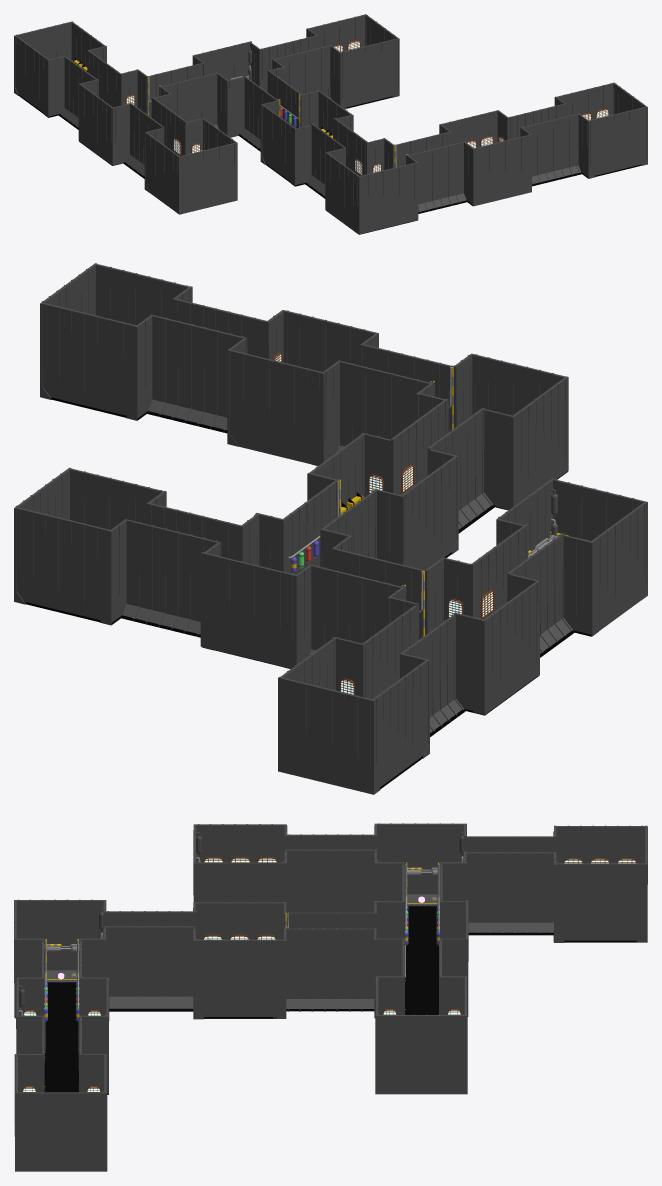
The model's file is TestRoom.fbx.
3 views of the same model, one above another, from view 1: azimuth 30°, elevation 25°; view 2: azimuth 150°, elevation 25°; view 3: azimuth 270°, elevation 25° (orthographic). The views are drawn at different scales.
Parts seen in each view (by area): view 1: Wall2.037, Wall2.033, Wall1.030, Wall1.034, Wall1.029, СТЕНИЩЕ 2.045, WallWithCapsules.015, Wall2.036, Wall2.034, WallWithCapsules.017, СТЕНИЩЕ 2.047, Wall3.032 (+40 smaller); view 2: Wall1.036, Wall2.035, Wall3.029, Wall3.028, Wall3.031, СТЕНИЩЕ 2.046, СТЕНИЩЕ 2.048, Wall2.036, Wall2.034, WallWithCapsules.018, WallWithCapsules.016, Wall3.032 (+40 smaller); view 3: Wall1.033, Wall1.028, WallWithCapsules.019, СТЕНИЩЕ 2.051, Wall1.037, СТЕНИЩЕ 2.037, Wall1.032, СТЕНИЩЕ 2.049, Wall2.036, Wall2.034, Wall2.038, Wall3.033 (+20 smaller).
Boxes of the visible parts, <box> form: Wall2.037: <box>175,143,237,214</box>; Wall2.033: <box>470,134,531,206</box>; Wall1.030: <box>359,162,417,232</box>; Wall1.034: <box>341,38,397,108</box>; Wall1.029: <box>589,107,646,175</box>; СТЕНИЩЕ 2.045: <box>520,114,580,184</box>; WallWithCapsules.015: <box>406,142,466,213</box>; Wall2.036: <box>78,83,119,165</box>; Wall2.034: <box>325,152,366,234</box>; WallWithCapsules.017: <box>159,73,218,128</box>; СТЕНИЩЕ 2.047: <box>274,45,330,98</box>; Wall3.032: <box>146,132,179,210</box>; Wall1.036: <box>278,677,380,794</box>; Wall2.035: <box>200,552,300,668</box>; Wall3.029: <box>230,350,327,464</box>; Wall3.028: <box>42,303,136,417</box>; Wall3.031: <box>16,507,109,620</box>; СТЕНИЩЕ 2.046: <box>148,315,246,431</box>; СТЕНИЩЕ 2.048: <box>122,519,217,636</box>; Wall2.036: <box>473,581,539,714</box>; Wall2.034: <box>501,376,568,509</box>; WallWithCapsules.018: <box>308,565,405,655</box>; WallWithCapsules.016: <box>337,361,434,451</box>; Wall3.032: <box>591,502,646,630</box>; Wall1.033: <box>375,1014,467,1094</box>; Wall1.028: <box>15,1092,107,1171</box>; WallWithCapsules.019: <box>285,926,375,1011</box>; СТЕНИЩЕ 2.051: <box>104,926,196,1008</box>; Wall1.037: <box>556,863,645,942</box>; СТЕНИЩЕ 2.037: <box>463,852,553,932</box>; Wall1.032: <box>195,939,283,1018</box>; СТЕНИЩЕ 2.049: <box>285,849,377,912</box>; Wall2.036: <box>375,823,466,906</box>; Wall2.034: <box>14,899,106,982</box>; Wall2.038: <box>194,862,286,906</box>; Wall3.033: <box>554,825,645,863</box>.
Size of the model in its own units: 82489 by 11569 by 82128.
